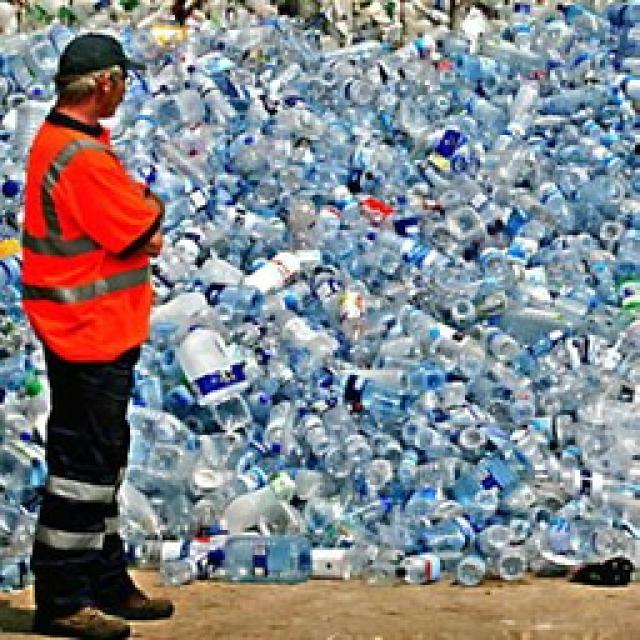plastic: (174, 0, 639, 560)
